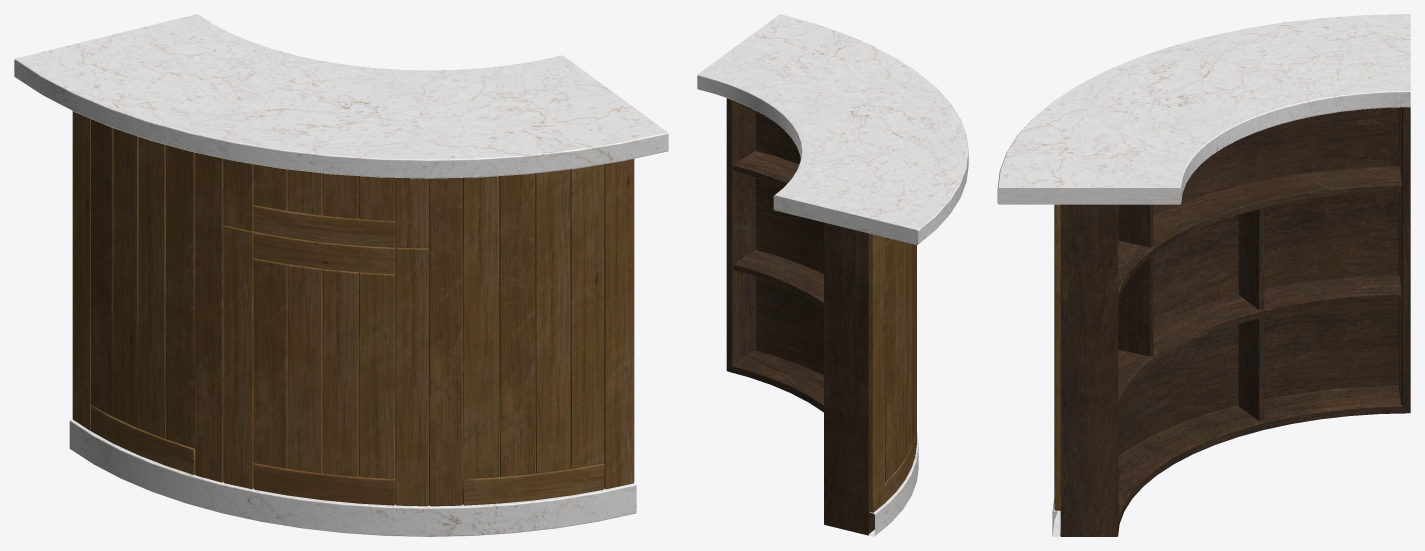
The model's file is SM_CounterTop_02_A.fbx.
3 views of the same model, side by side, from view 1: azimuth 30°, elevation 25°; view 2: azimuth 150°, elevation 25°; view 3: azimuth 270°, elevation 25° (orthographic). The views are drawn at different scales.
Parts seen in each view (by area): view 1: SM_CounterTop_02_A_LOD0; view 2: SM_CounterTop_02_A_LOD0; view 3: SM_CounterTop_02_A_LOD0.
Part boxes in pixels (bbox=[...]): SM_CounterTop_02_A_LOD0: bbox=[14, 14, 668, 536]; SM_CounterTop_02_A_LOD0: bbox=[697, 14, 968, 536]; SM_CounterTop_02_A_LOD0: bbox=[997, 14, 1410, 536].
Bounding box in the file's own units: 129 × 129 × 120.
